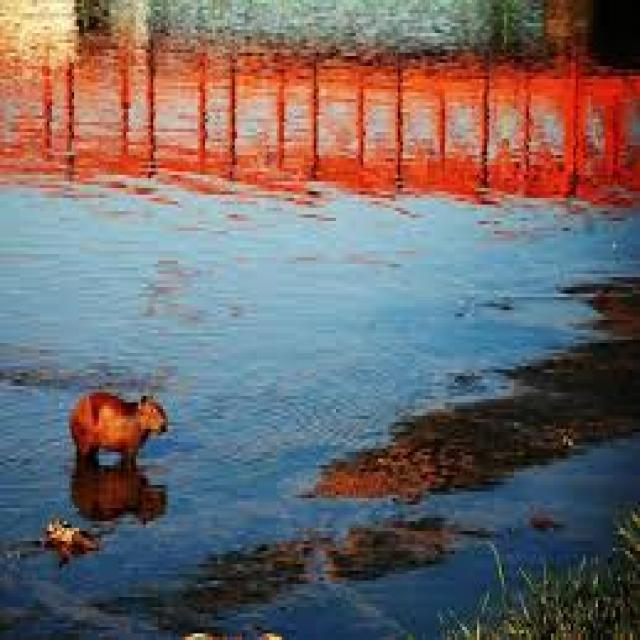capy: (66, 389, 170, 468)
